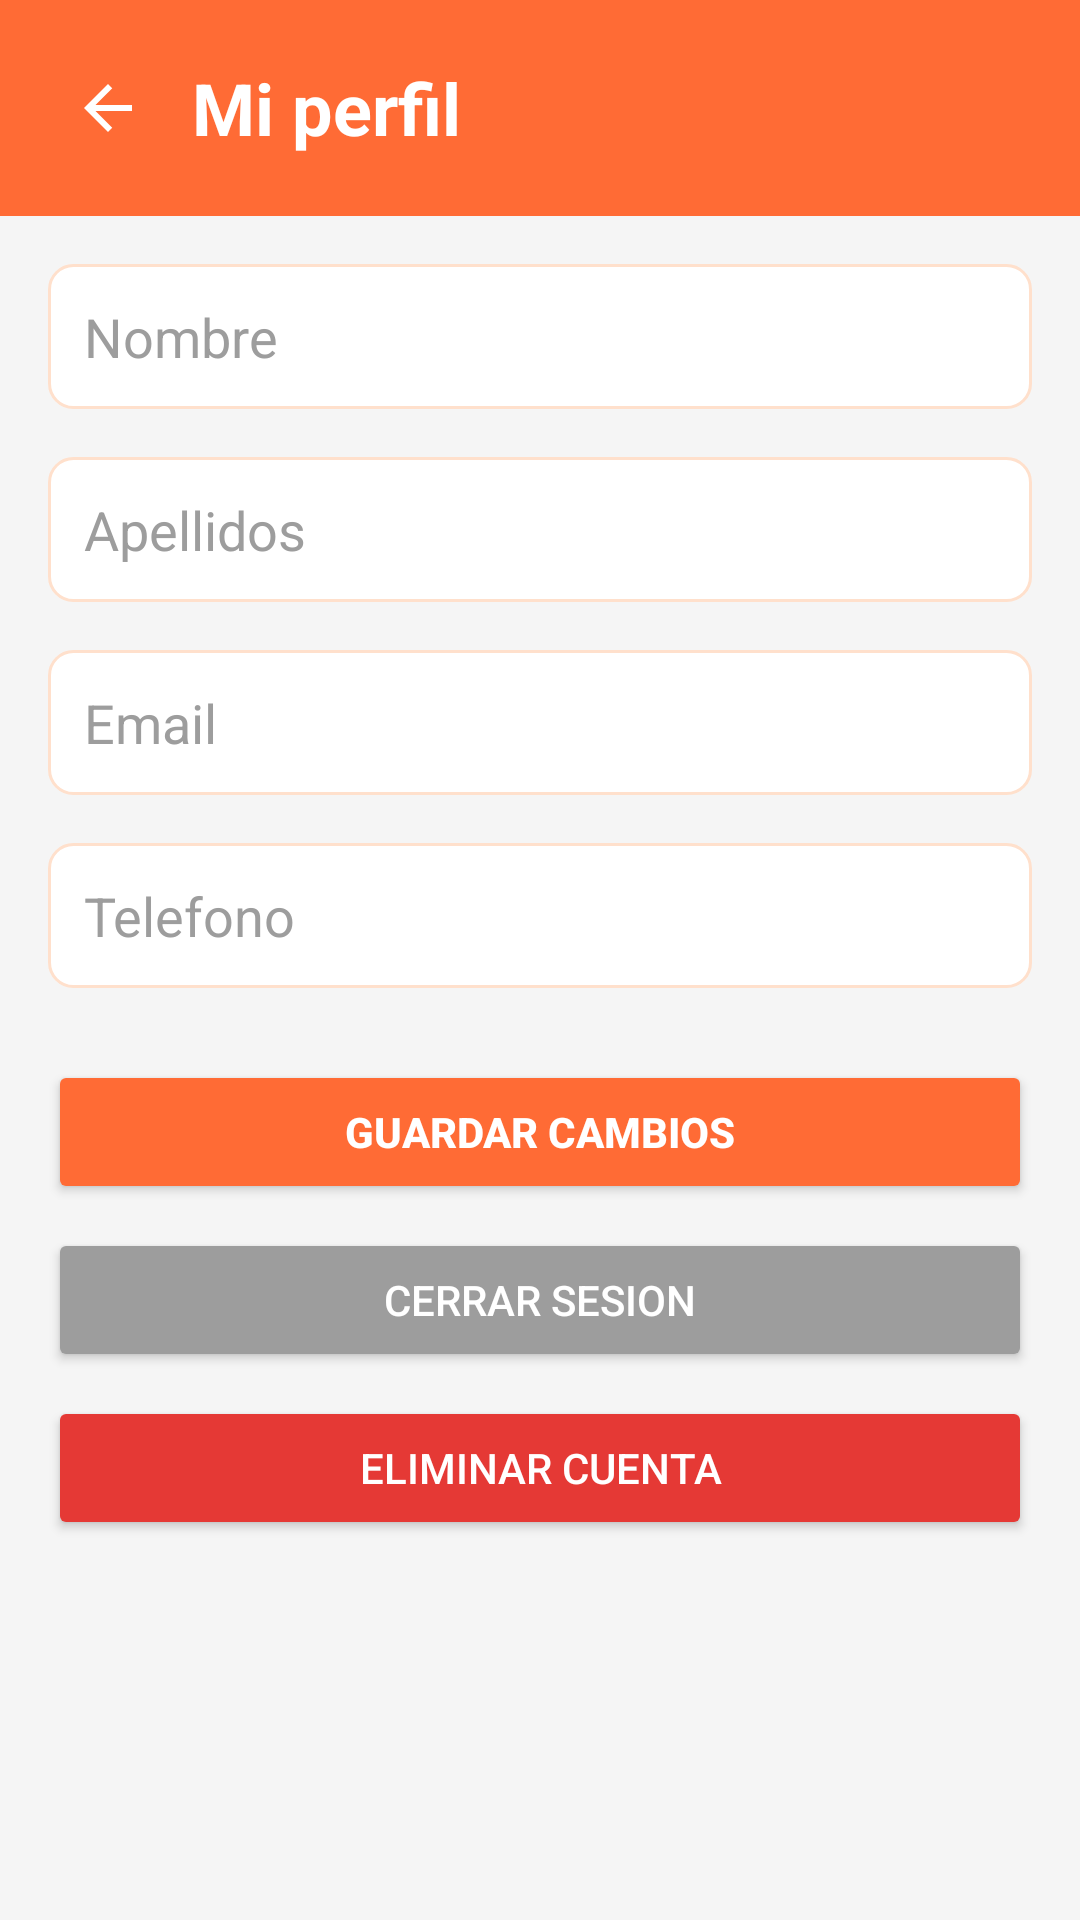

Icons on this 1080×1920 Android screen, each with the point to tap as (x=x, y=y):
arrow back: (x=108, y=108)
